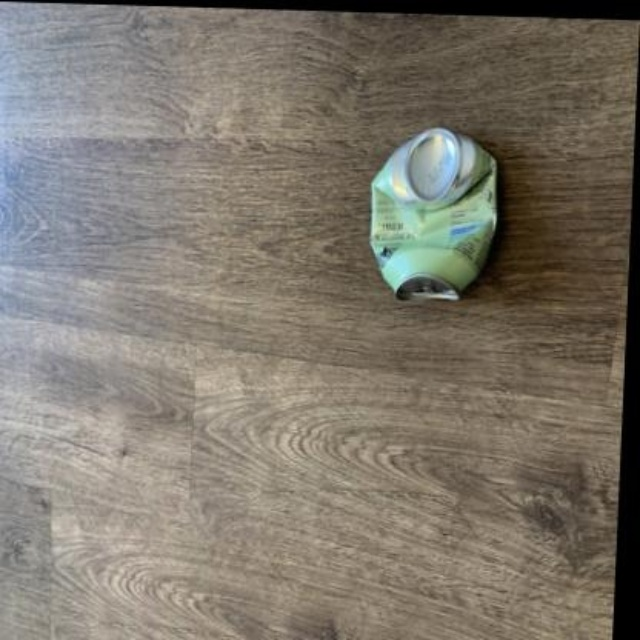trash: (371, 128, 495, 298)
